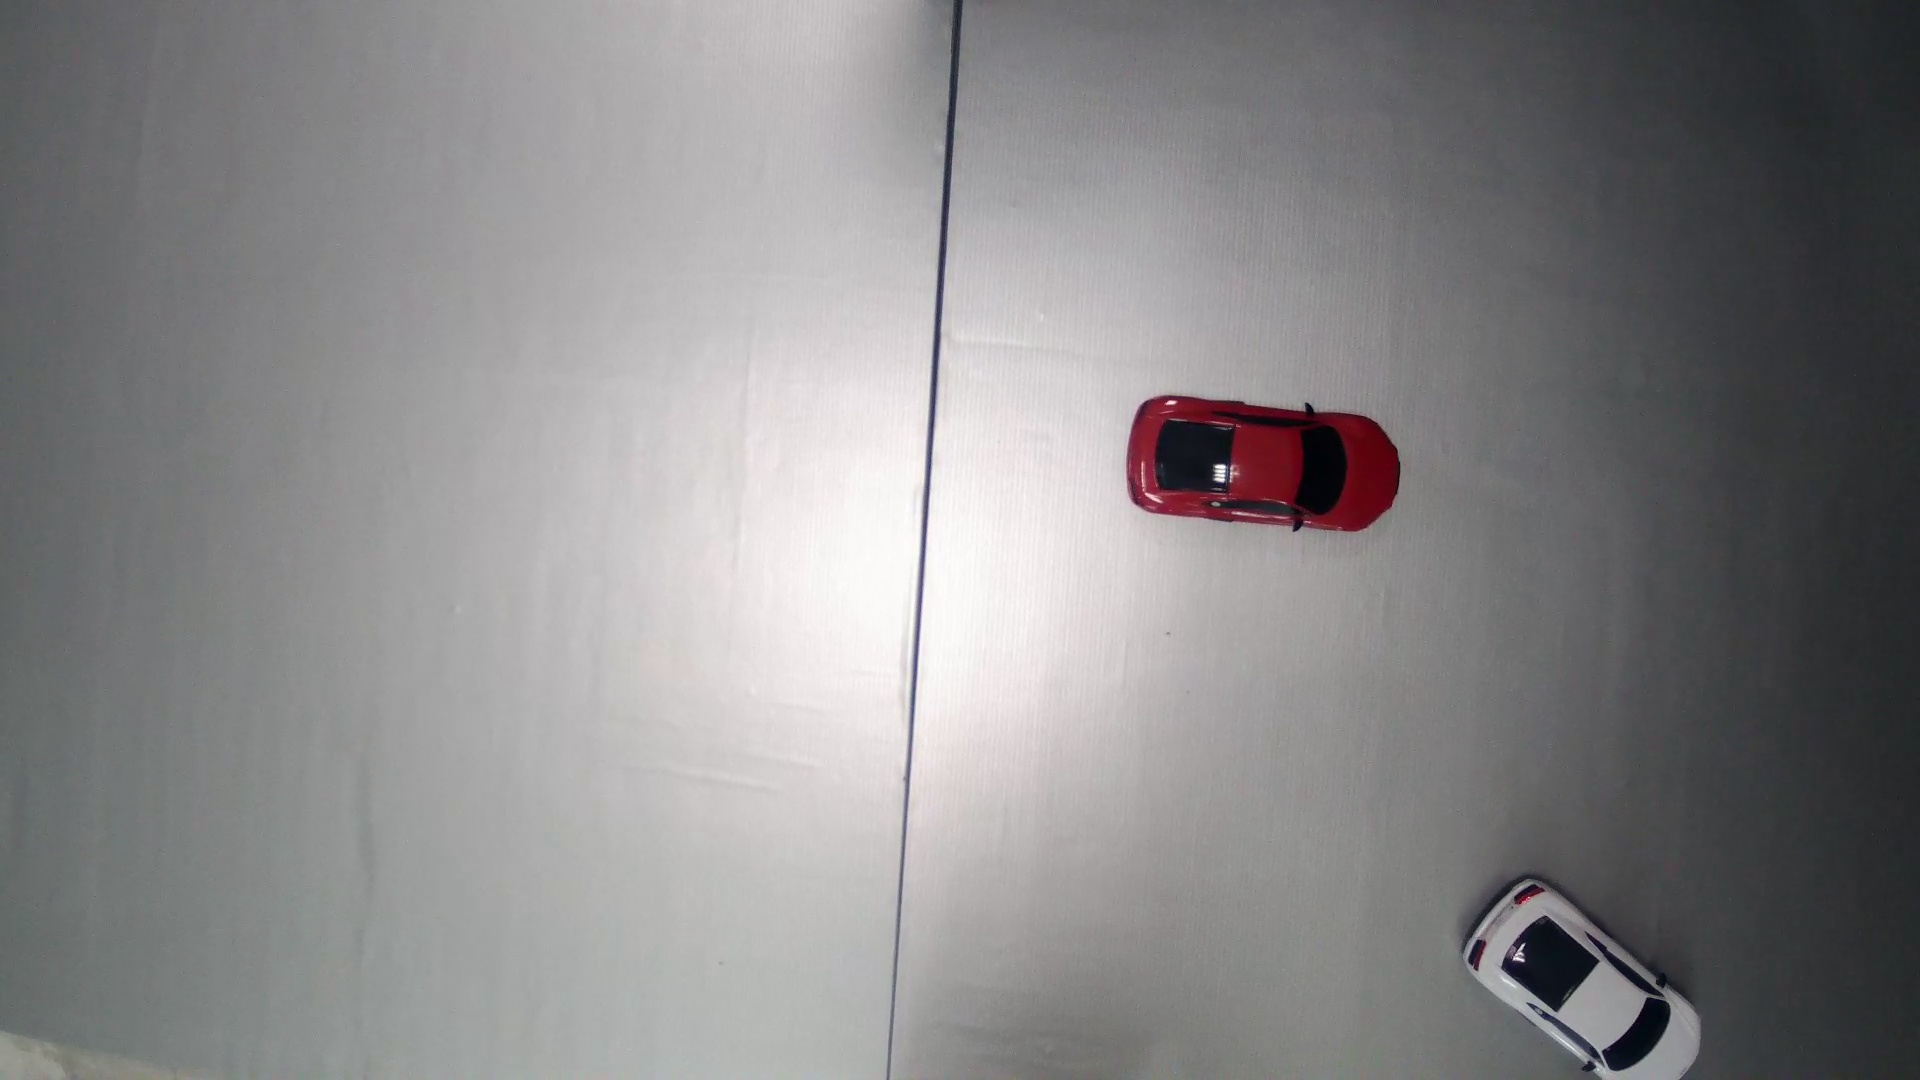remote_car: (1461, 872, 1706, 1080), (1127, 397, 1404, 534)
